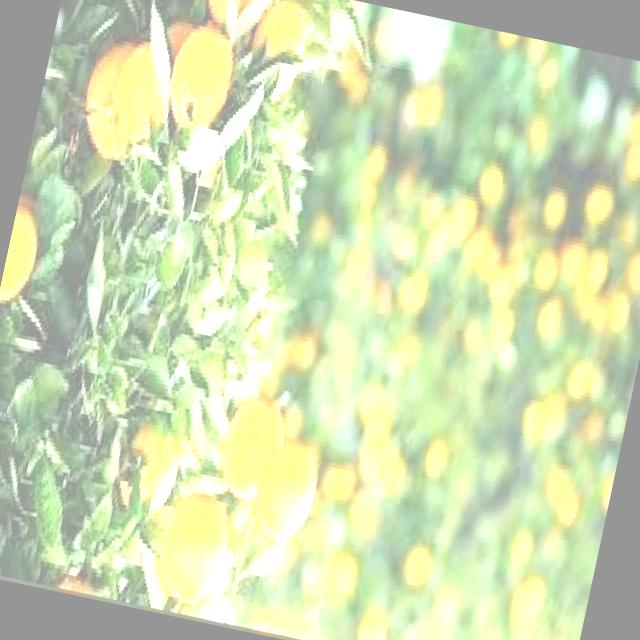Orange: (64, 23, 192, 193), (203, 386, 304, 522), (148, 483, 244, 618), (156, 15, 242, 161), (242, 429, 332, 566), (103, 412, 193, 544), (235, 0, 320, 117), (0, 190, 58, 325), (192, 0, 279, 51)
